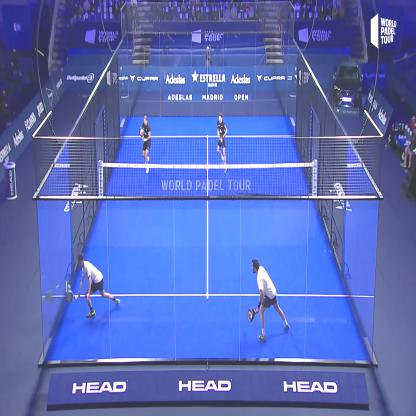ball: (66, 281, 73, 293)
